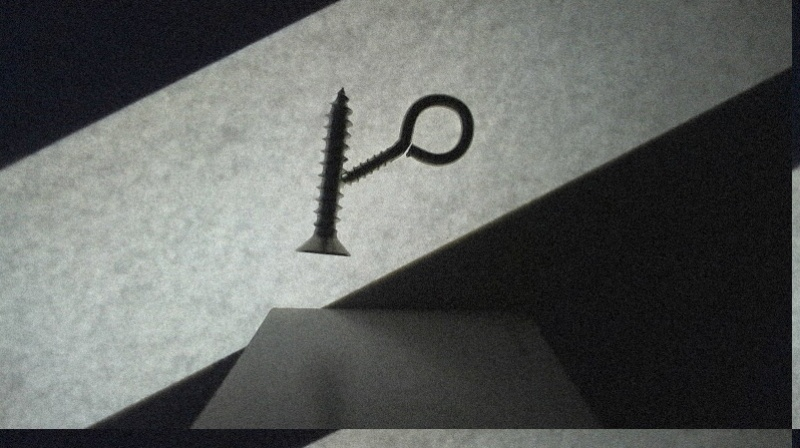O001: (338, 93, 475, 190)
S001: (290, 86, 352, 256)
